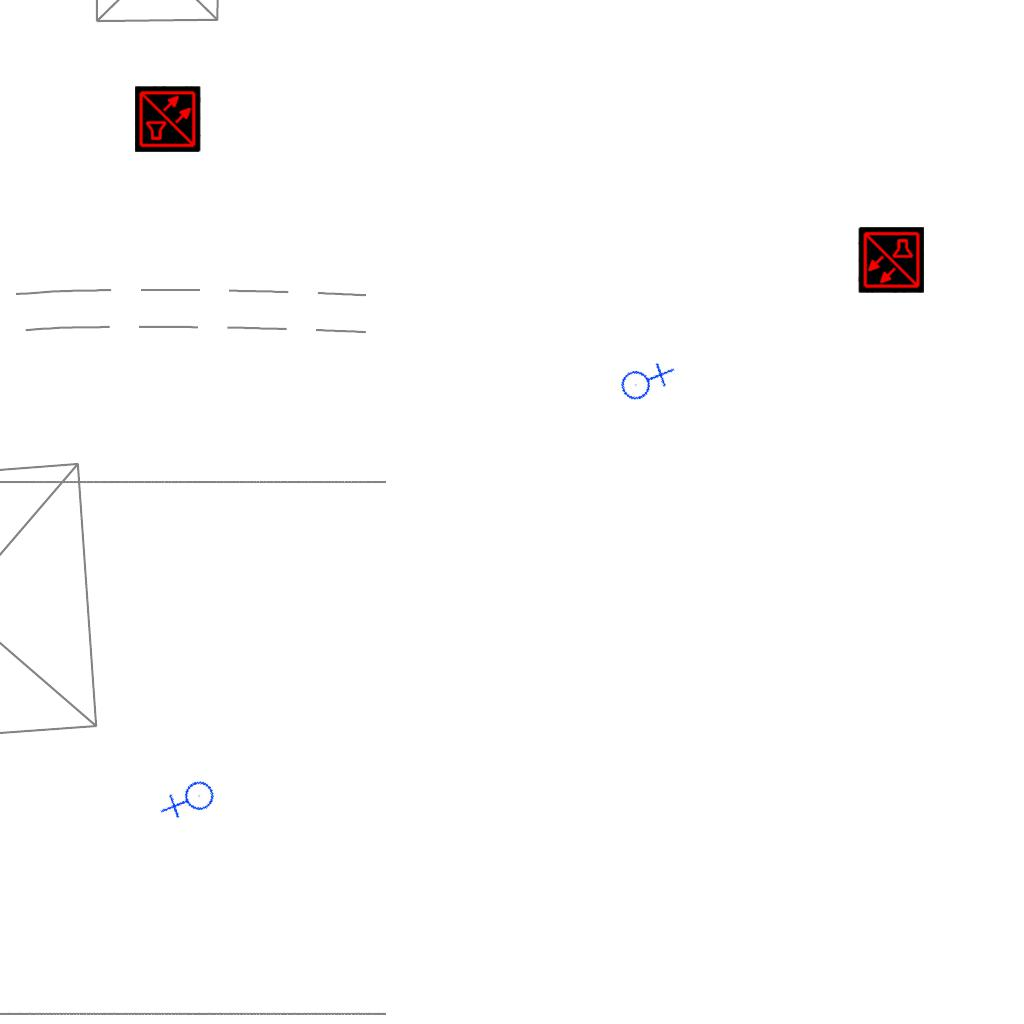Elektroanschluss_allgemein_230V_Geraeteanschlussdose_230V: (612, 348, 677, 411), (158, 770, 223, 833)
OKW_Multisensormelder_(Kombination_optischer_Rauch-Kahlenmonoxid_Waerme-Melder): (135, 86, 201, 152), (858, 227, 924, 293)
